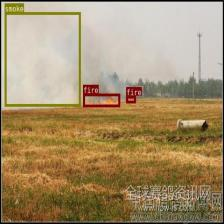fire: (82, 94, 120, 106), (125, 95, 136, 103)
smoke: (5, 12, 80, 106)
